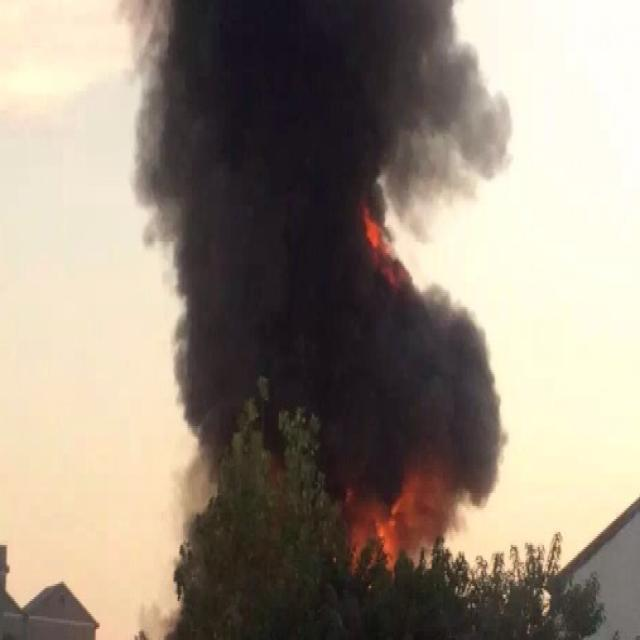Fire: (360, 197, 382, 251)
Smoke: (111, 2, 513, 567)
